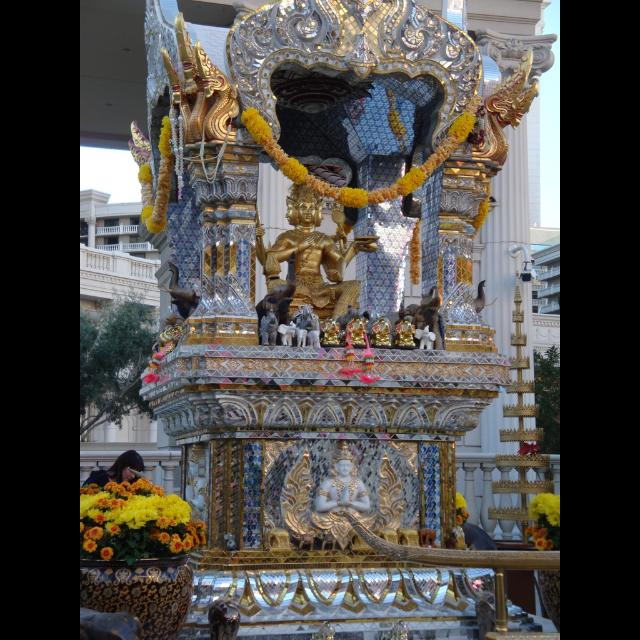Flower: (238, 94, 486, 210), (80, 478, 206, 554), (136, 116, 174, 234), (108, 492, 176, 530), (469, 182, 491, 238), (528, 490, 560, 528), (524, 523, 554, 551), (336, 344, 362, 376), (359, 352, 381, 384), (411, 220, 421, 284), (82, 526, 105, 552), (518, 442, 540, 456), (148, 352, 164, 370), (454, 490, 468, 510), (140, 372, 160, 383), (101, 546, 113, 562), (462, 508, 470, 520), (456, 512, 462, 526)
